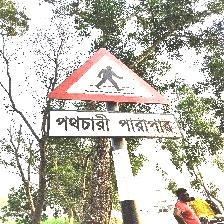Pedestrian-crossing: (46, 46, 178, 138)
